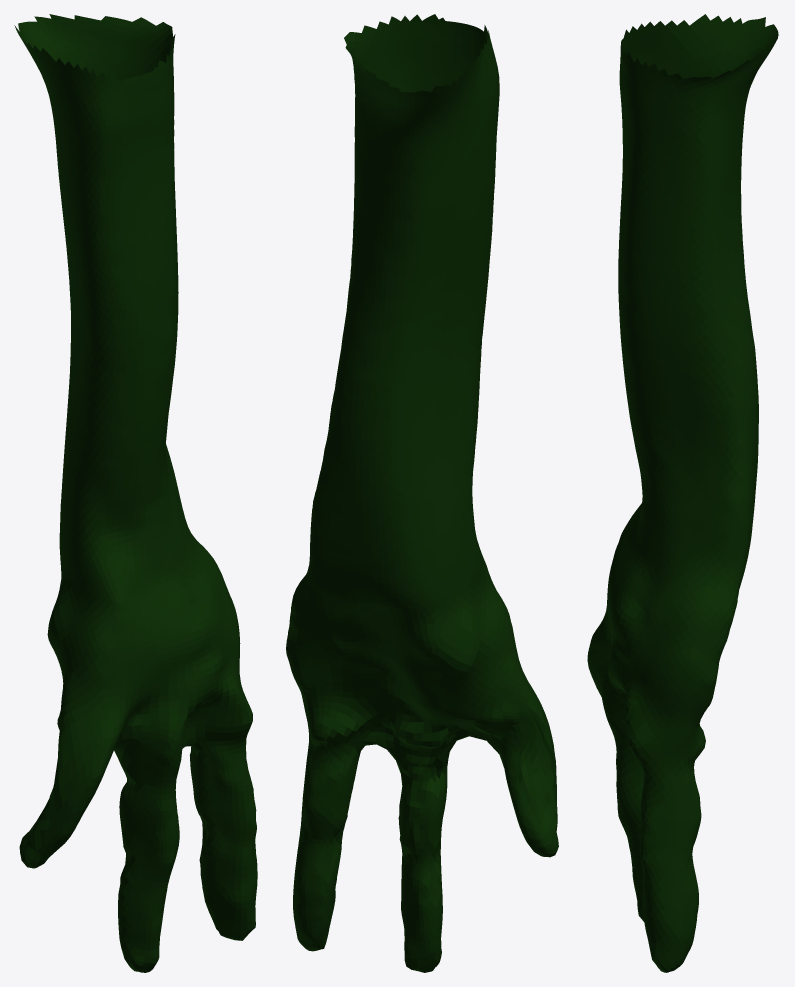
The model's file is lowerB.obj.
The picture shows the model from 3 angles, left to right: view 1: azimuth 30°, elevation 25°; view 2: azimuth 150°, elevation 25°; view 3: azimuth 270°, elevation 25°; orthographic projection. The views are drawn at different scales.
Parts seen in each view (by area): view 1: polySurface1 alien_12:alien; view 2: polySurface1 alien_12:alien; view 3: polySurface1 alien_12:alien.
Part boxes in pixels (box(x1,y1,x2,y2)): polySurface1 alien_12:alien: box(14, 14, 257, 972); polySurface1 alien_12:alien: box(286, 14, 558, 972); polySurface1 alien_12:alien: box(587, 14, 778, 972).
Size of the model in its own units: 0.5406 by 1.97 by 0.3919.
